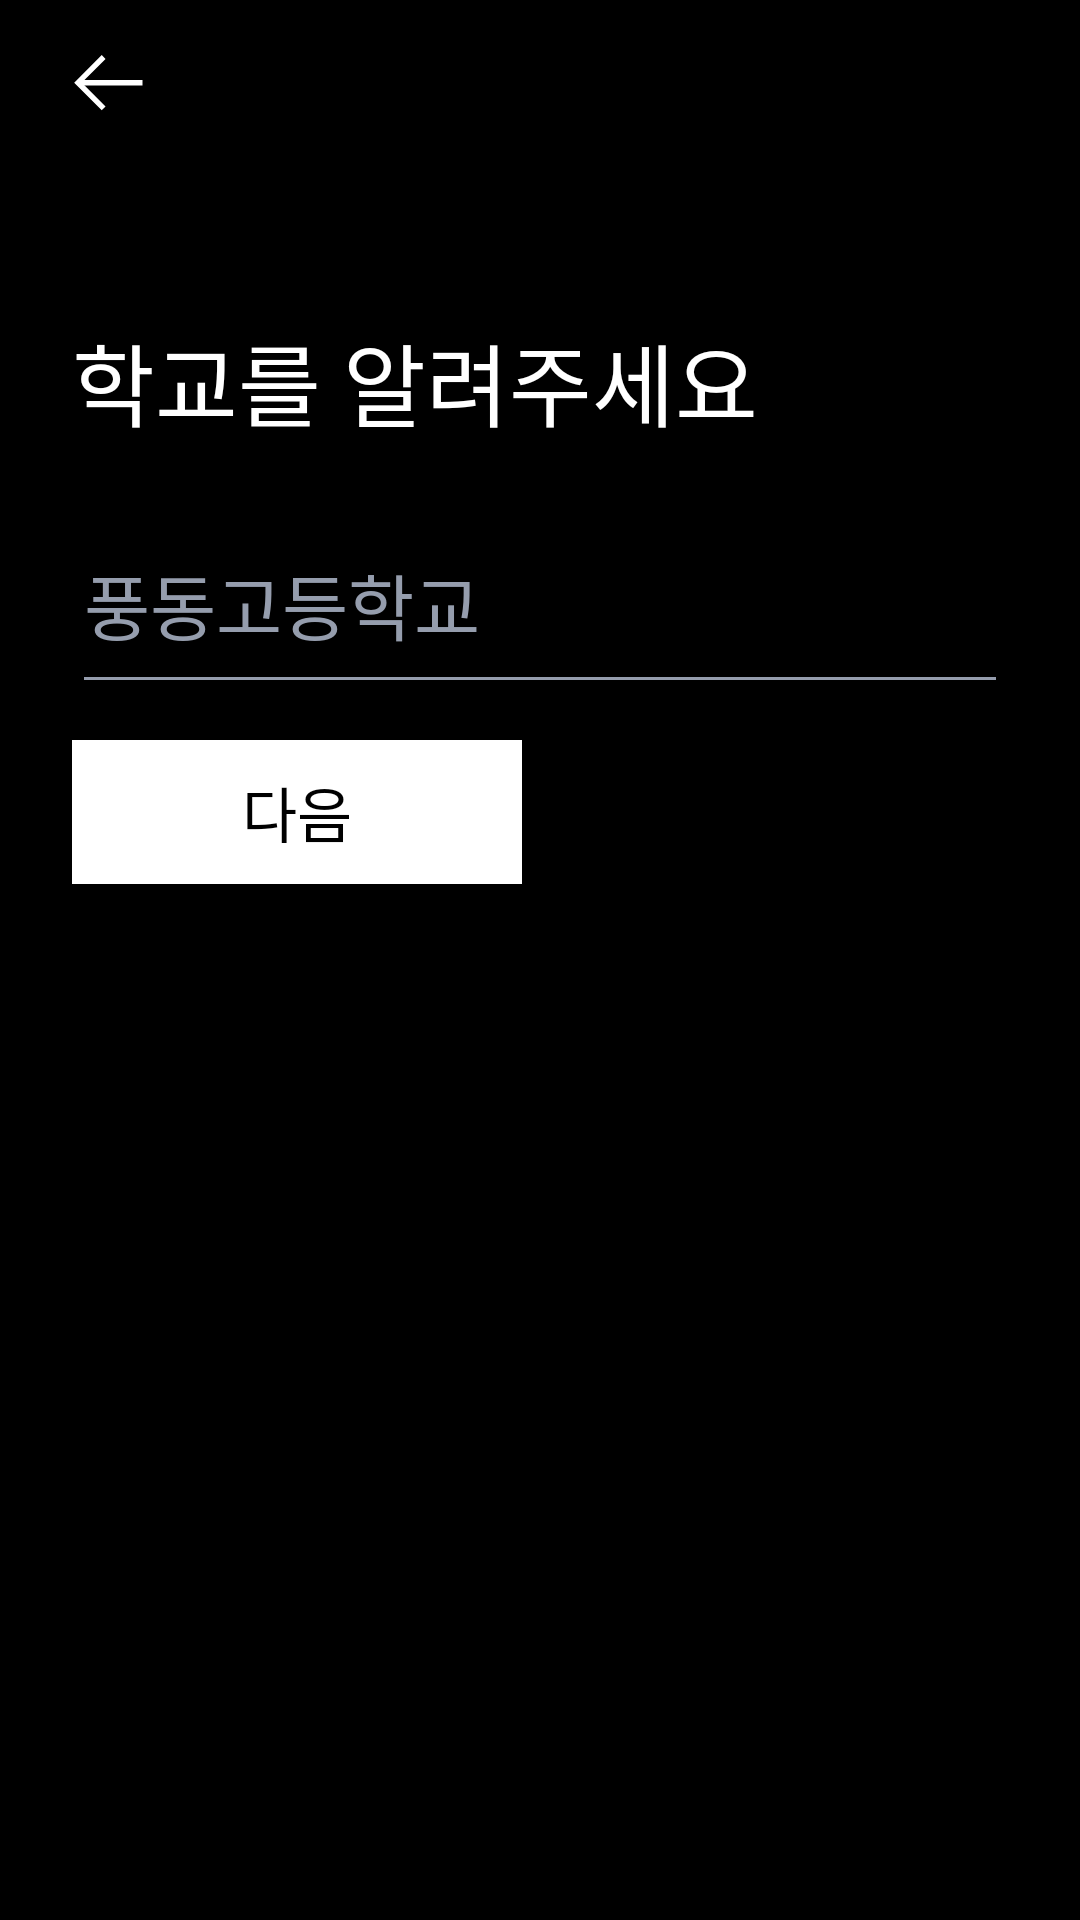

Where icons sit on this 1080px×1920px app screen, as (x1, y1, x2, y2):
back: (74, 55, 143, 110)
